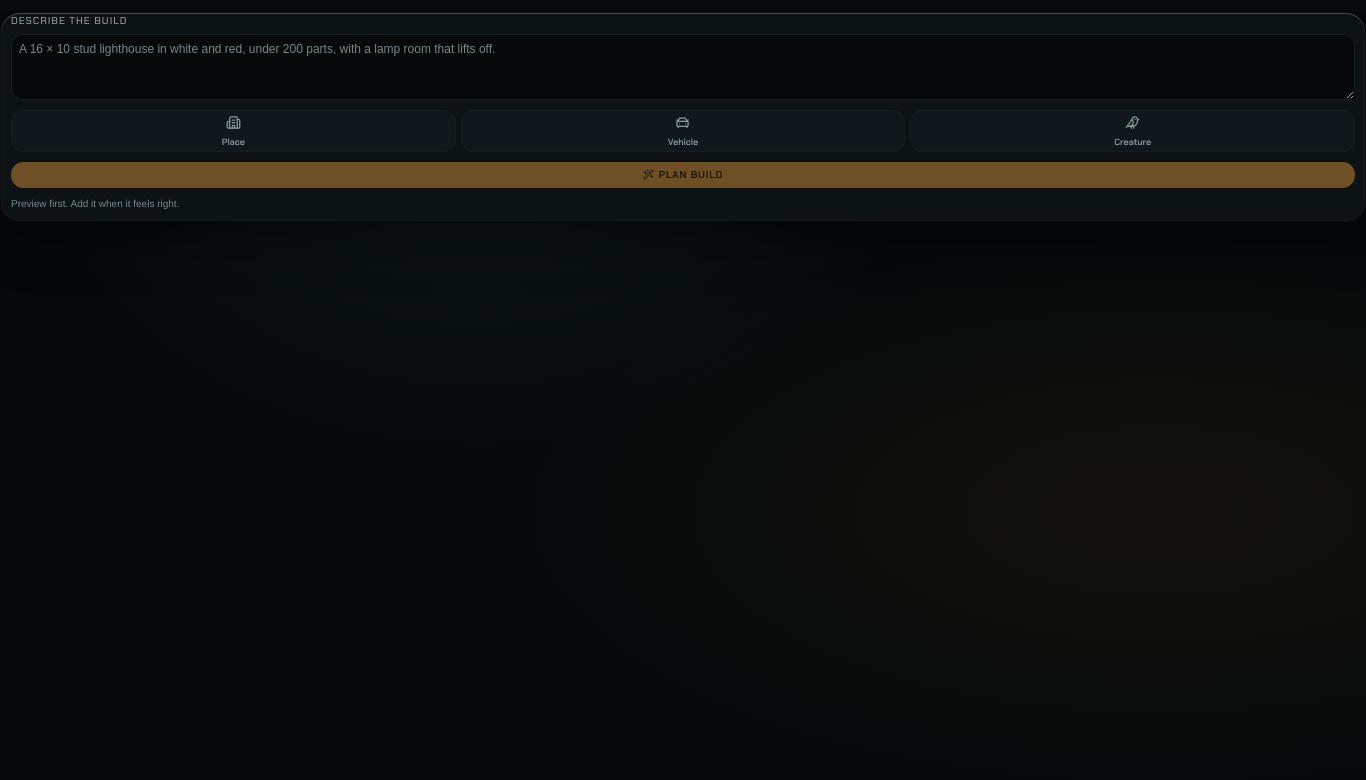
Test: compiling the brief › reads the brief back from /api/brief as editable fields
Replace the text in the text box named "What should be built" with "a small 8 x 4 stud red kiosk under 90 parts": [683, 67] box [11,34,1355,100]
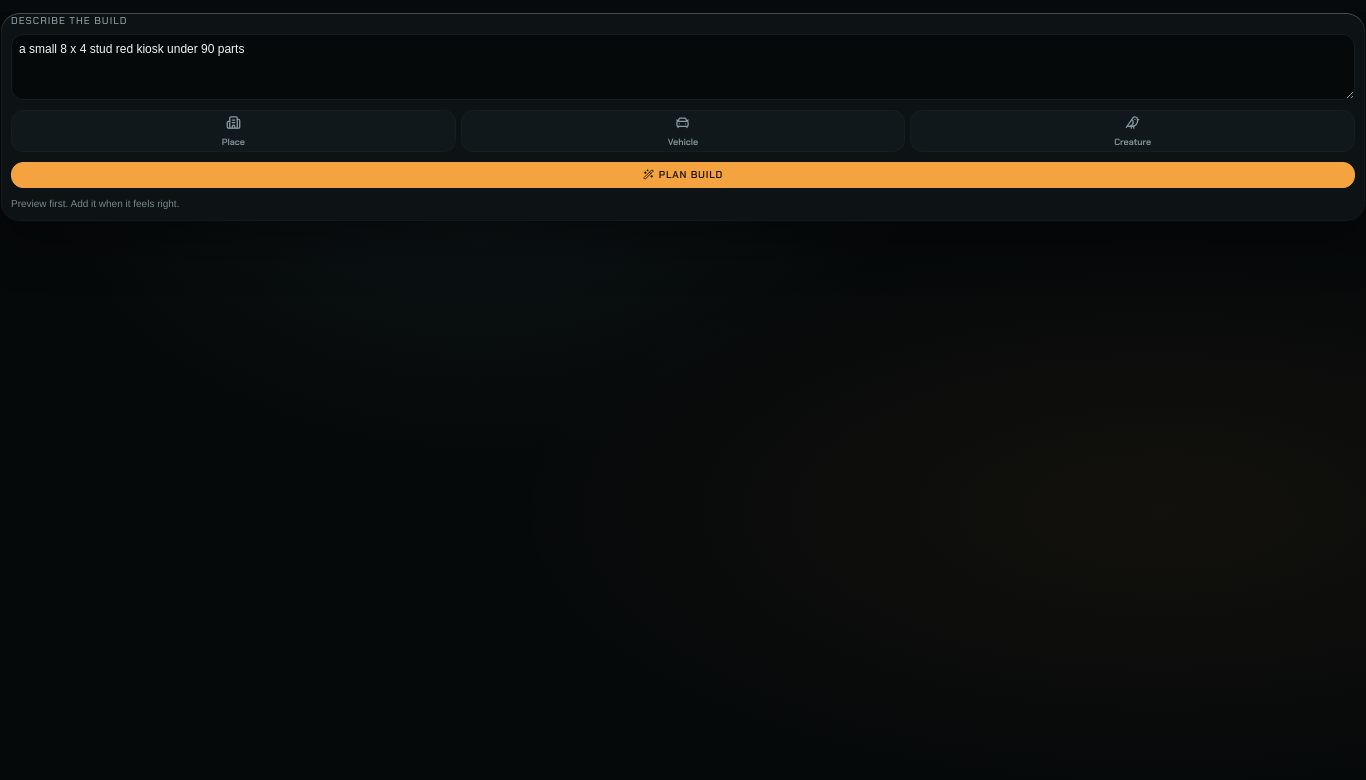
Click the button with aria-label "Compile brief": [683, 175] box [11,162,1355,188]
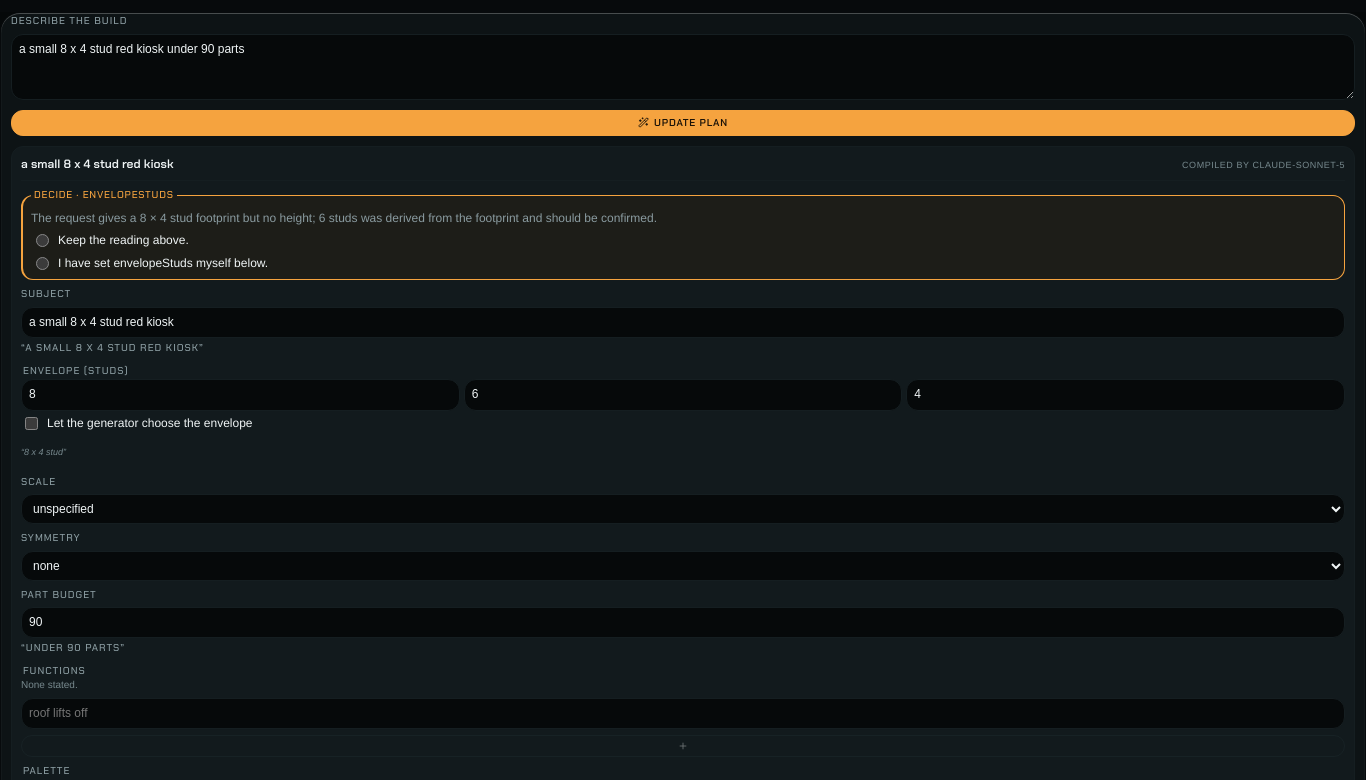
Check: the field labelled "Subject" holds "a small 8 x 4 stud red kiosk", box [21,307,1345,338]
Check: the number field named "Envelope width in studs" holds "8", box [21,379,460,410]
Check: the number field named "Envelope depth in studs" holds "4", box [906,379,1345,410]
